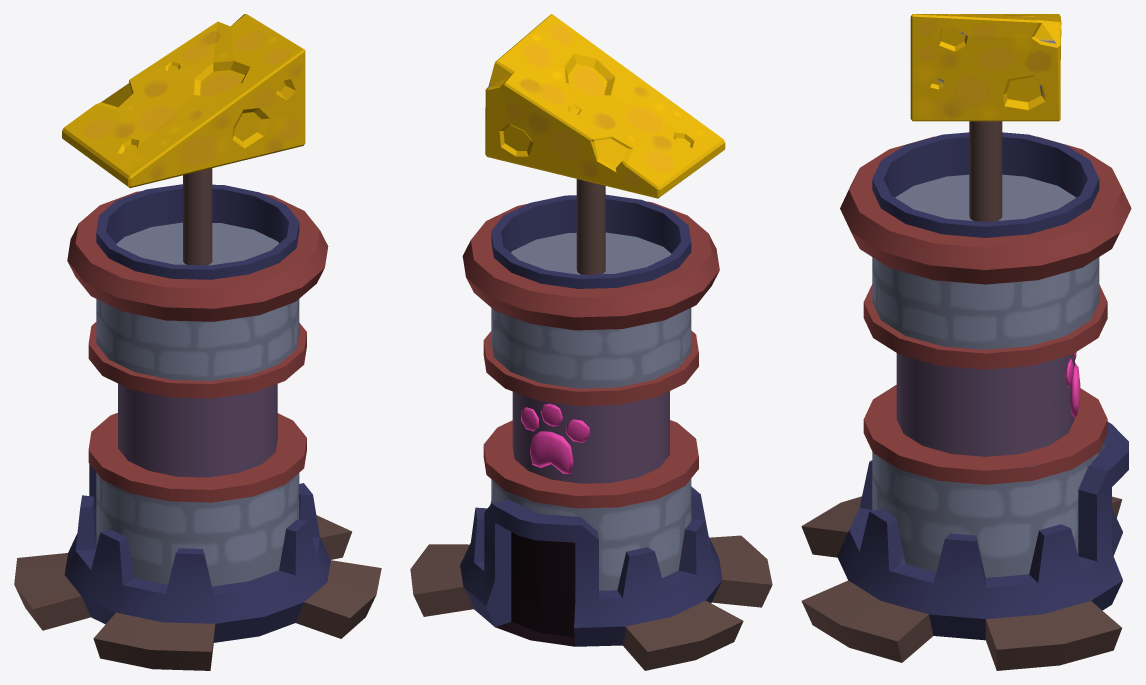
Rendered from tower.fbx.
The picture shows the model from 3 angles, left to right: view 1: azimuth 30°, elevation 25°; view 2: azimuth 150°, elevation 25°; view 3: azimuth 270°, elevation 25°; orthographic projection. The views are drawn at different scales.
Visible parts, largest first — view 1: Circle; view 2: Circle; view 3: Circle.
Part boxes in pixels (<box>): Circle: <box>14,14,381,670</box>; Circle: <box>410,14,772,670</box>; Circle: <box>801,14,1131,670</box>.
Size of the model in its own units: 360 by 598 by 291.
Materials: 1 (1 with a texture image).
